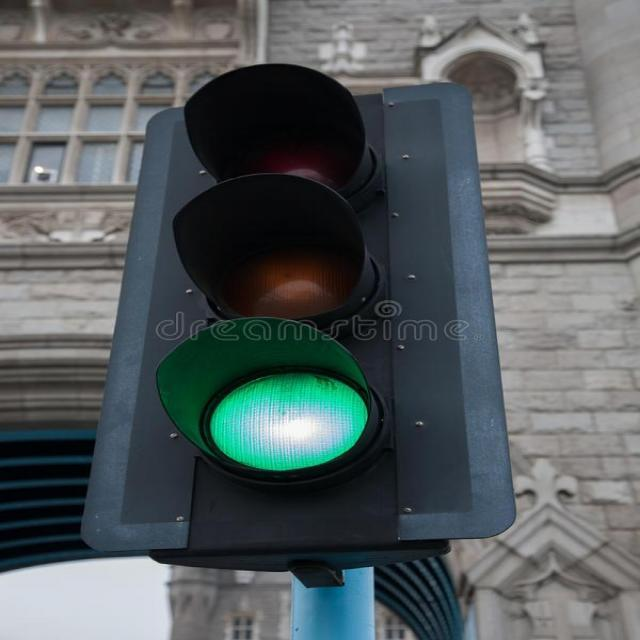green_light: (149, 56, 446, 521)
